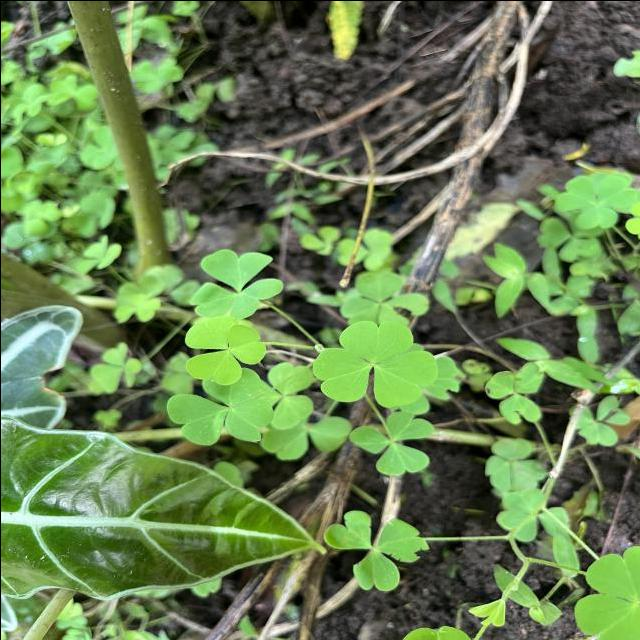Oxalis corniculata: (310, 318, 438, 408), (321, 506, 431, 592), (165, 366, 274, 446), (186, 247, 284, 318), (183, 314, 266, 386), (348, 409, 434, 476)
